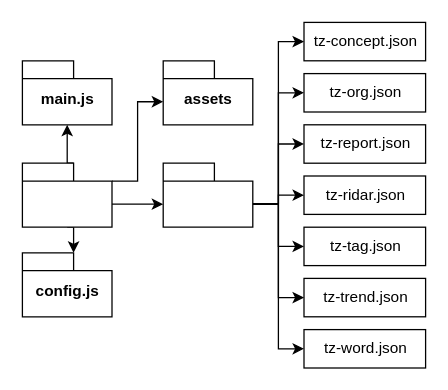
Image size: 448x390. Some labels were removed from this diagram. Here are the shapes that lost their labels. From the top down, the box of each, then its label:
(21, 162, 112, 227): APP.vue
(162, 162, 253, 227): componets
